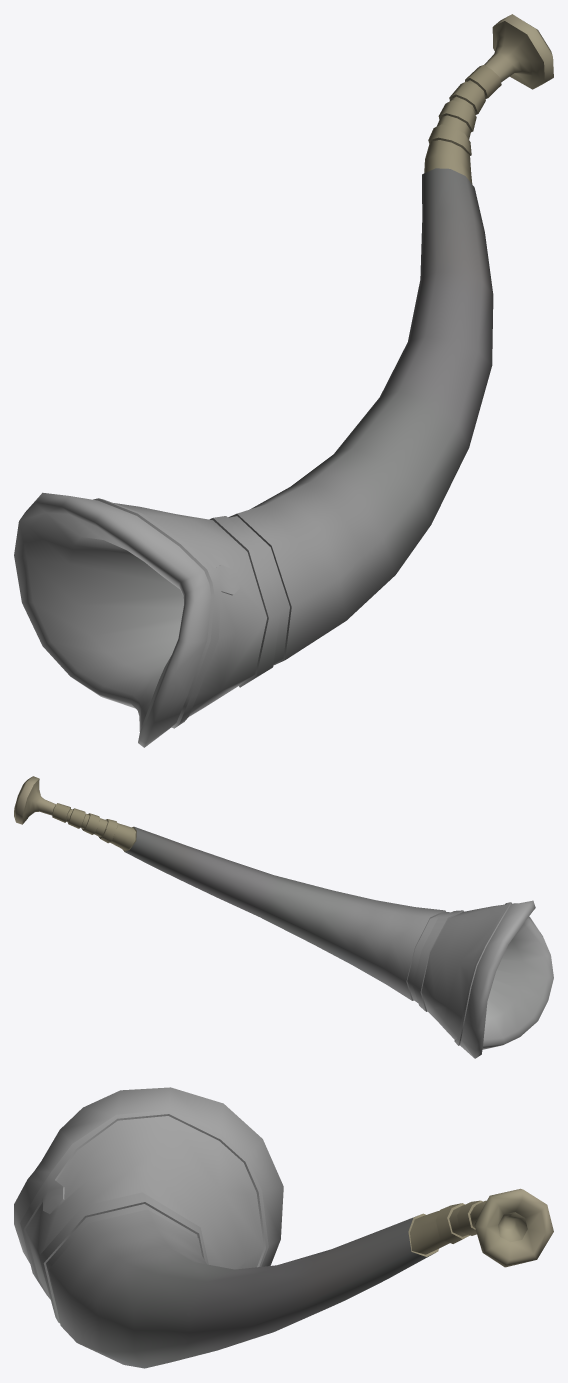
The model's file is CharSkyKid_Prop_Voice.glb.
3 views of the same model, one above another, from view 1: azimuth 30°, elevation 25°; view 2: azimuth 150°, elevation 25°; view 3: azimuth 270°, elevation 25° (orthographic). The views are drawn at different scales.
Parts seen in each view (by area): view 1: CharSkyKid_Prop_Voice; view 2: CharSkyKid_Prop_Voice; view 3: CharSkyKid_Prop_Voice.
Part boxes in pixels (x1,y1,x2,y2): CharSkyKid_Prop_Voice: (14,14,553,747); CharSkyKid_Prop_Voice: (14,776,553,1058); CharSkyKid_Prop_Voice: (14,1087,553,1368).
Bounding box in the file's own units: 5.06 × 3.26 × 3.66.
1 material, 1 textured.
